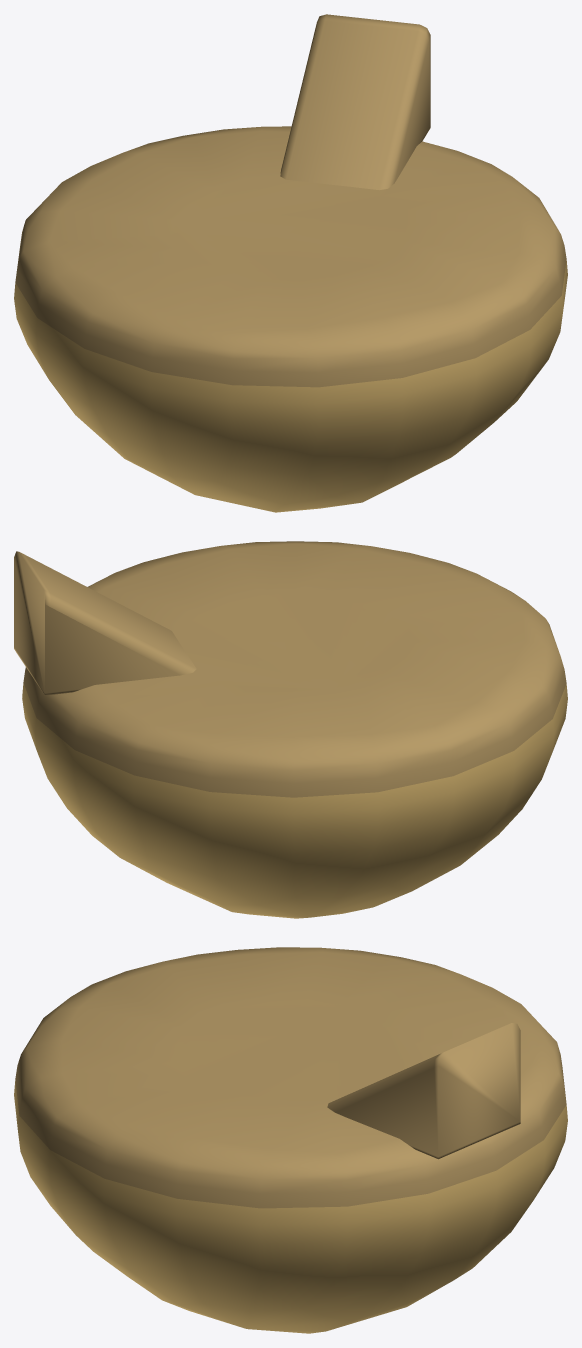
Rendered from SB_Island_02.fbx.
3 views of the same model, one above another, from view 1: azimuth 30°, elevation 25°; view 2: azimuth 150°, elevation 25°; view 3: azimuth 270°, elevation 25° (orthographic). The views are drawn at different scales.
Visible parts, largest first — view 1: SB_Island_02; view 2: SB_Island_02; view 3: SB_Island_02.
Part boxes in pixels (left/top/right/bottom): SB_Island_02: left=14, top=14, right=567, bottom=512; SB_Island_02: left=14, top=541, right=567, bottom=918; SB_Island_02: left=14, top=947, right=567, bottom=1333.
Size of the model in its own units: 14.12 by 10.12 by 14.11.
